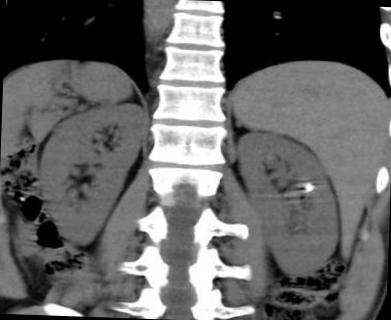Tas_Var: (303, 180, 316, 194)
